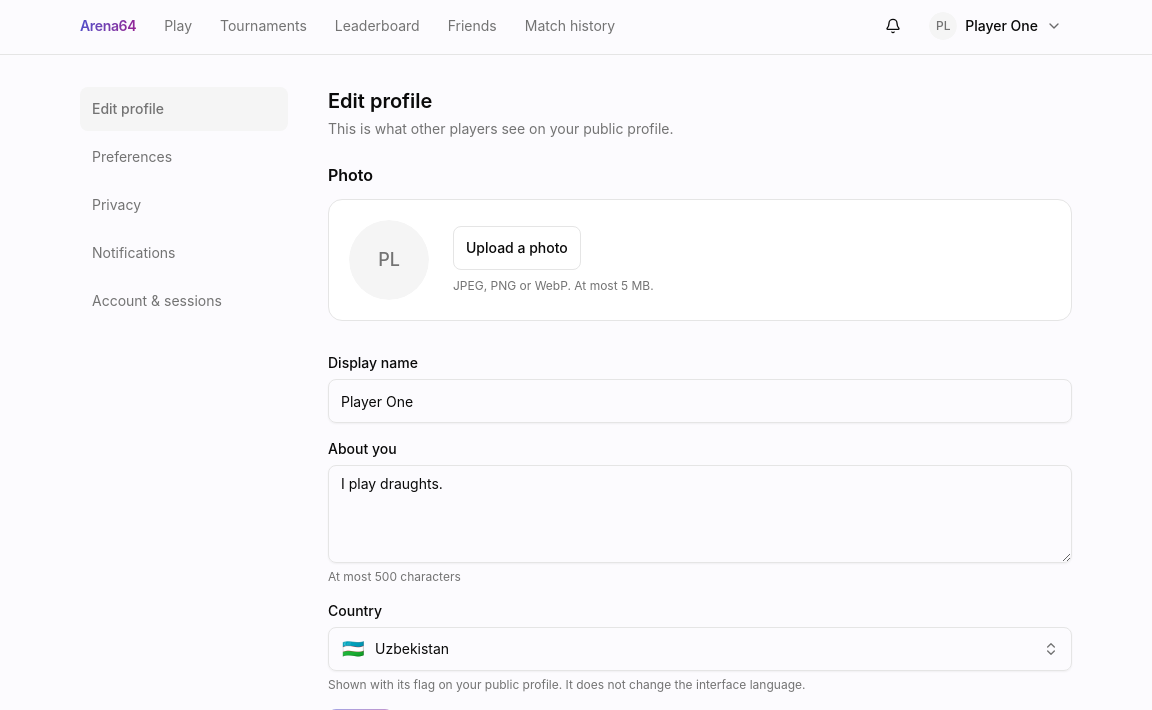
profile editing › submits only dirty values and refreshes both profile surfaces
Step 1. Replace the text in the field labelled "Display name" with "Renamed" → [700, 401], box [328,379,1072,423]
(page scrolled)
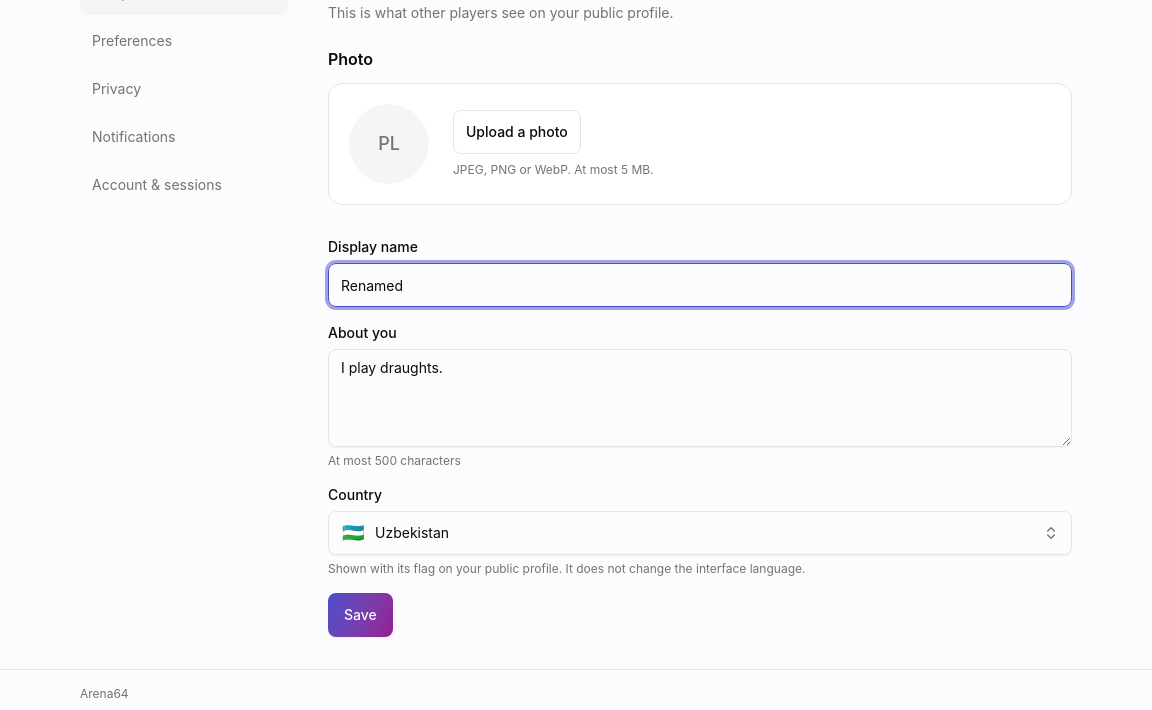
Now the button "Save" is enabled
Step 2. Click the button "Save" → [360, 615], box [328,593,393,637]
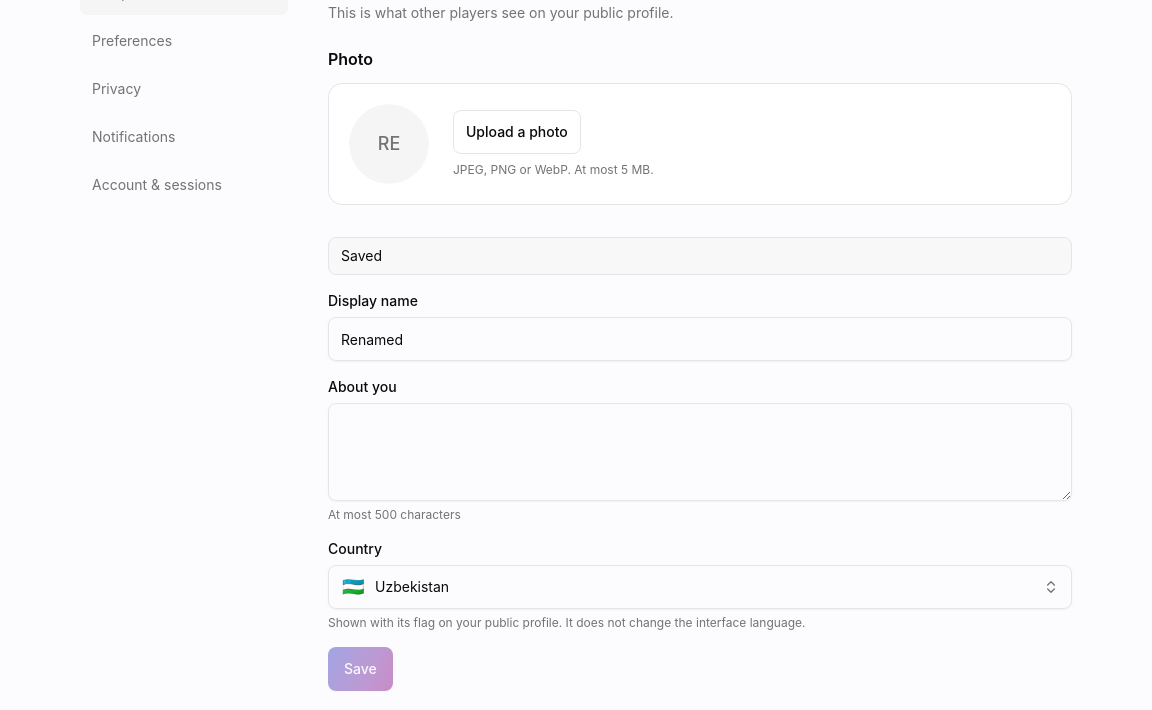
Now the message reads "Saved", box [341,247,382,264]
Now the button "Save" is disabled, box [328,647,393,691]
